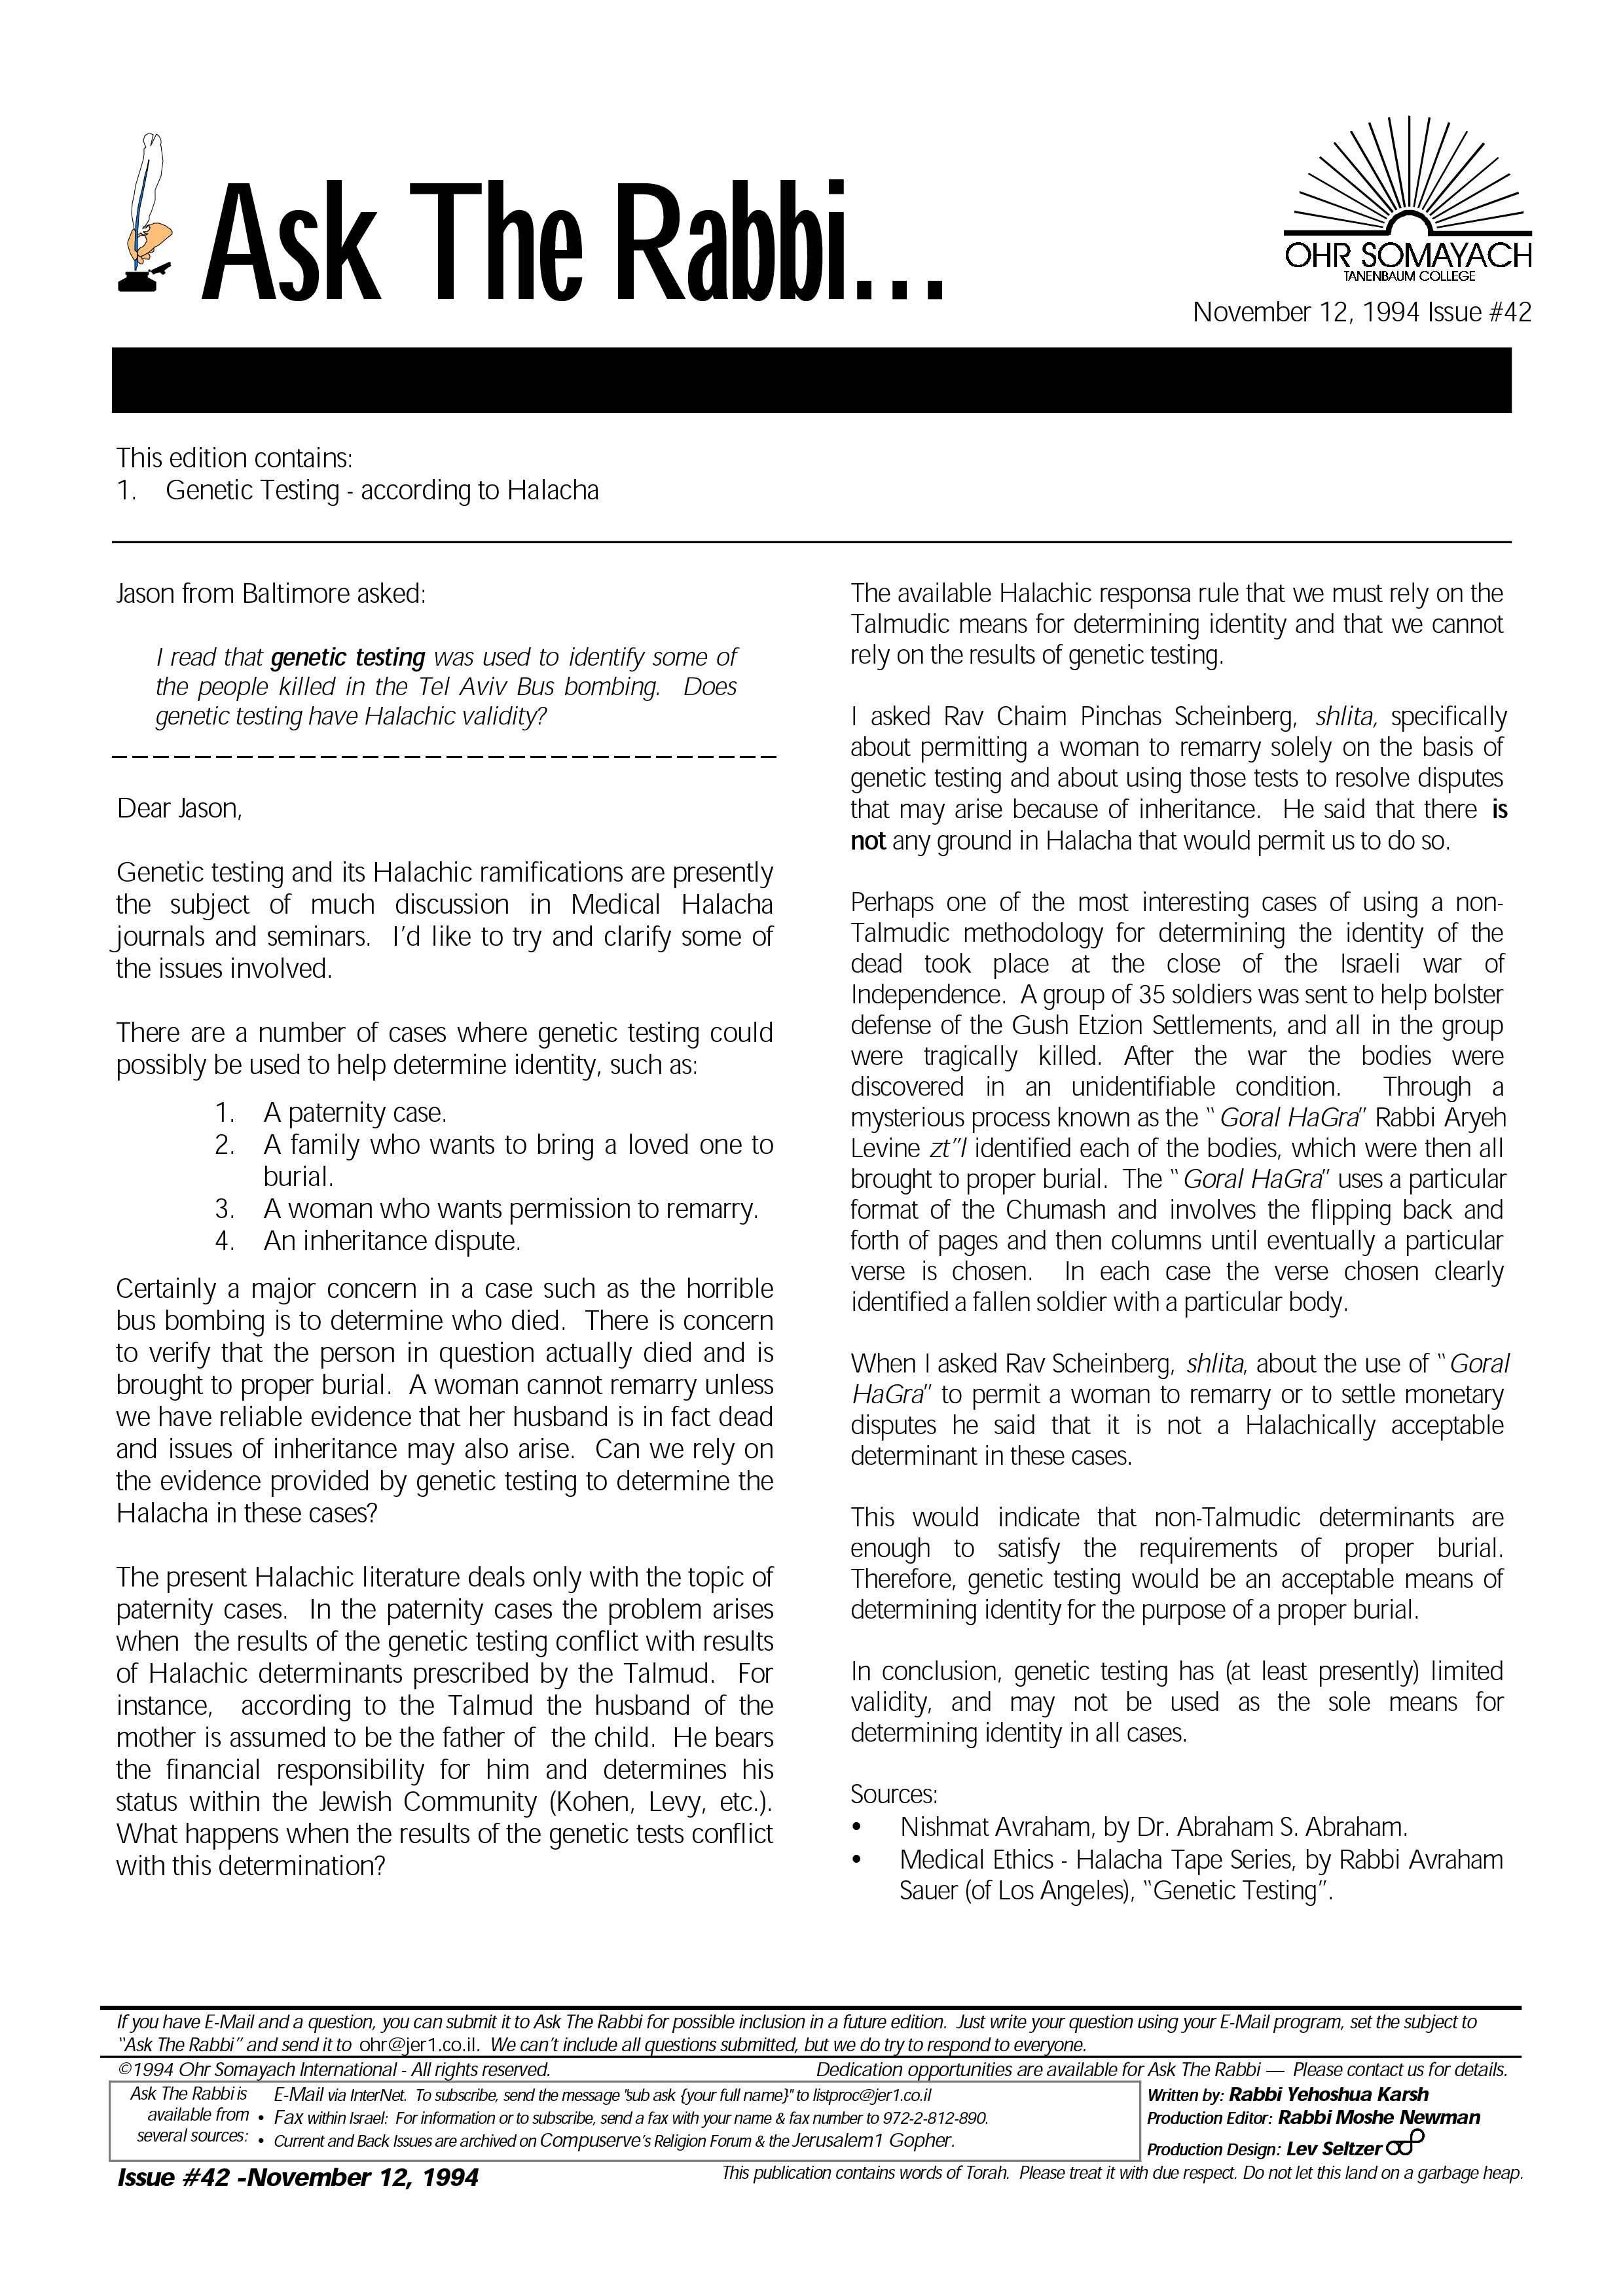figure: (1265, 114, 1553, 263)
list: (198, 1083, 778, 1285), (838, 1817, 1514, 1934)
section: (177, 163, 963, 312), (98, 553, 434, 614), (104, 774, 249, 834)
text: (841, 890, 1525, 1317), (88, 1576, 771, 1876), (83, 1288, 782, 1561), (848, 709, 1518, 869), (834, 1338, 1528, 1480), (109, 844, 782, 987), (838, 1501, 1512, 1636), (824, 1654, 1542, 1761), (848, 574, 1507, 685), (128, 649, 732, 739), (109, 1004, 778, 1081)
